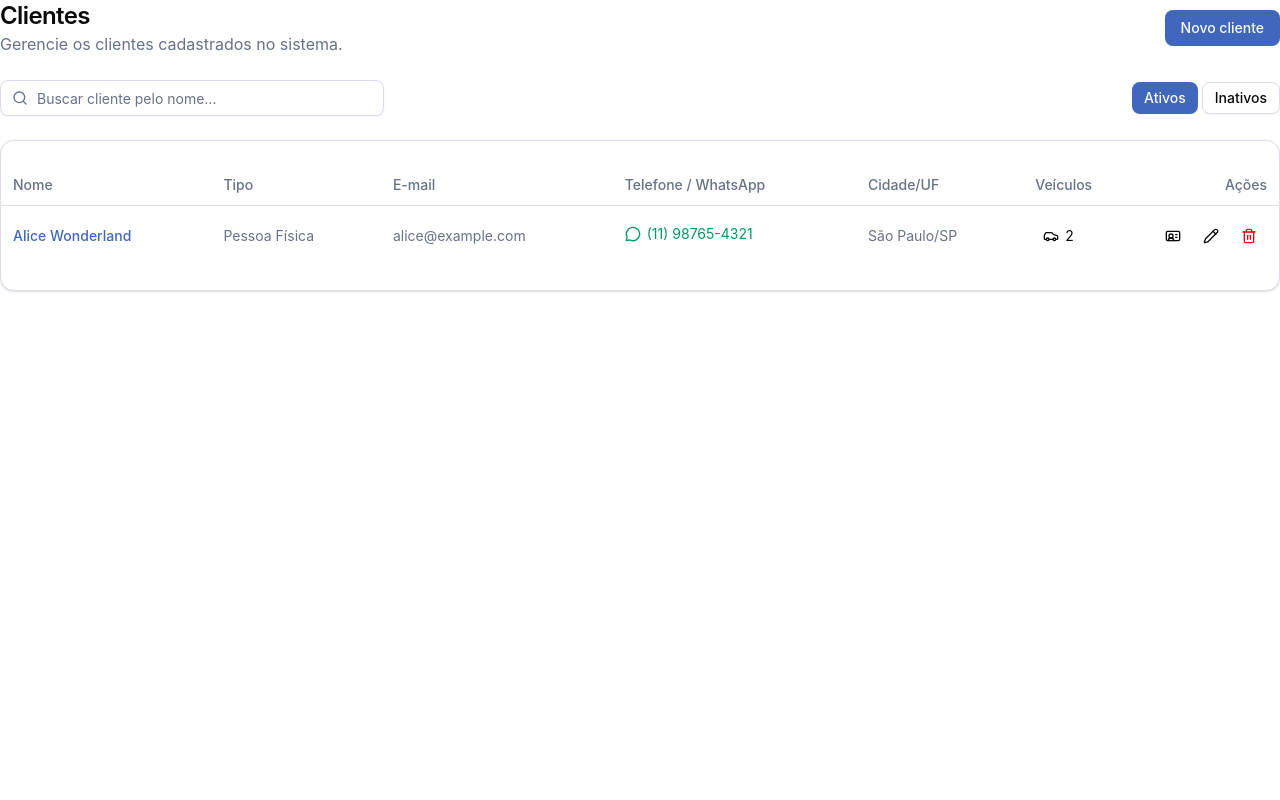
Test: CustomersPage › shows a picker dialog when the customer has more than one vehicle
Click the button named "2 veículo(s) vinculados": [1058, 236] box 1035,222 -> 1082,250
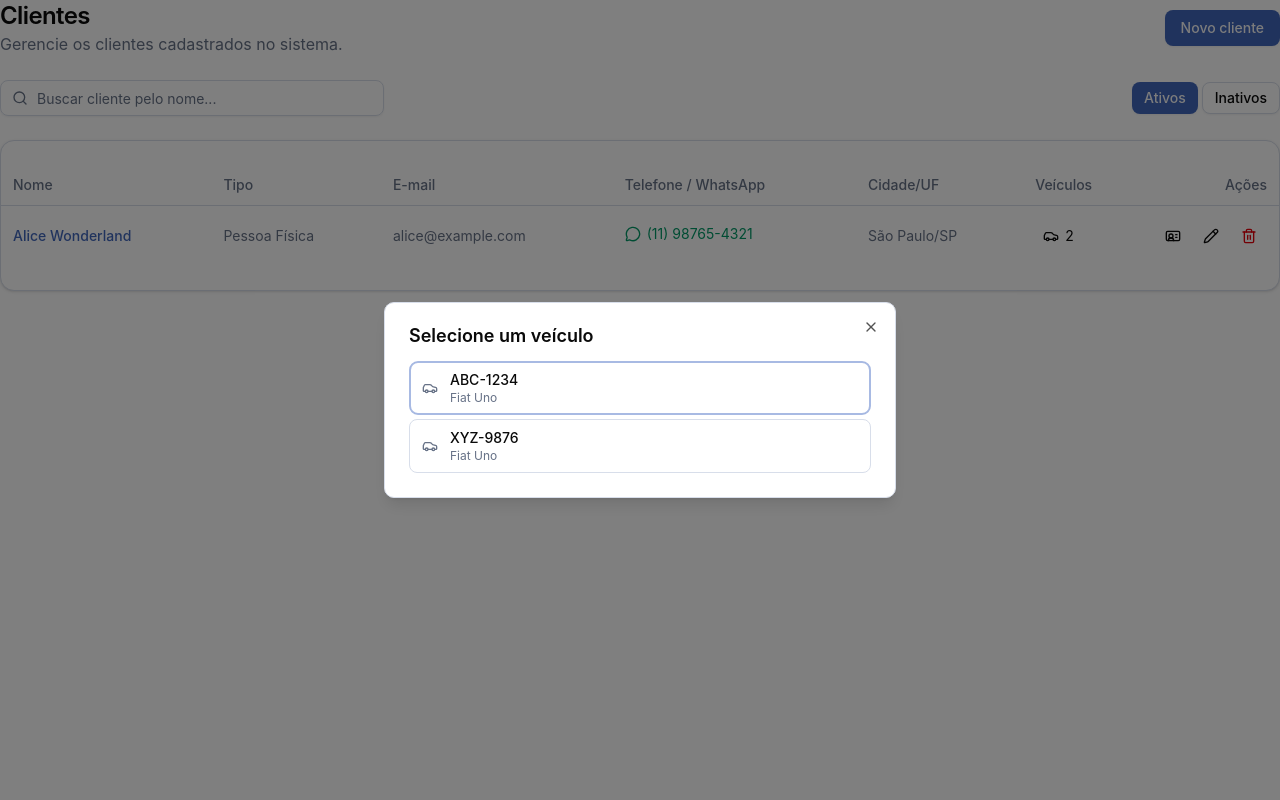
Check: the heading "Selecione um veículo" is shown, box 409,325 -> 594,346
Check: the text "ABC-1234" is shown, box 450,370 -> 518,390
Check: the text "XYZ-9876" is shown
Click the text "XYZ-9876": [484, 438] box 450,428 -> 519,448
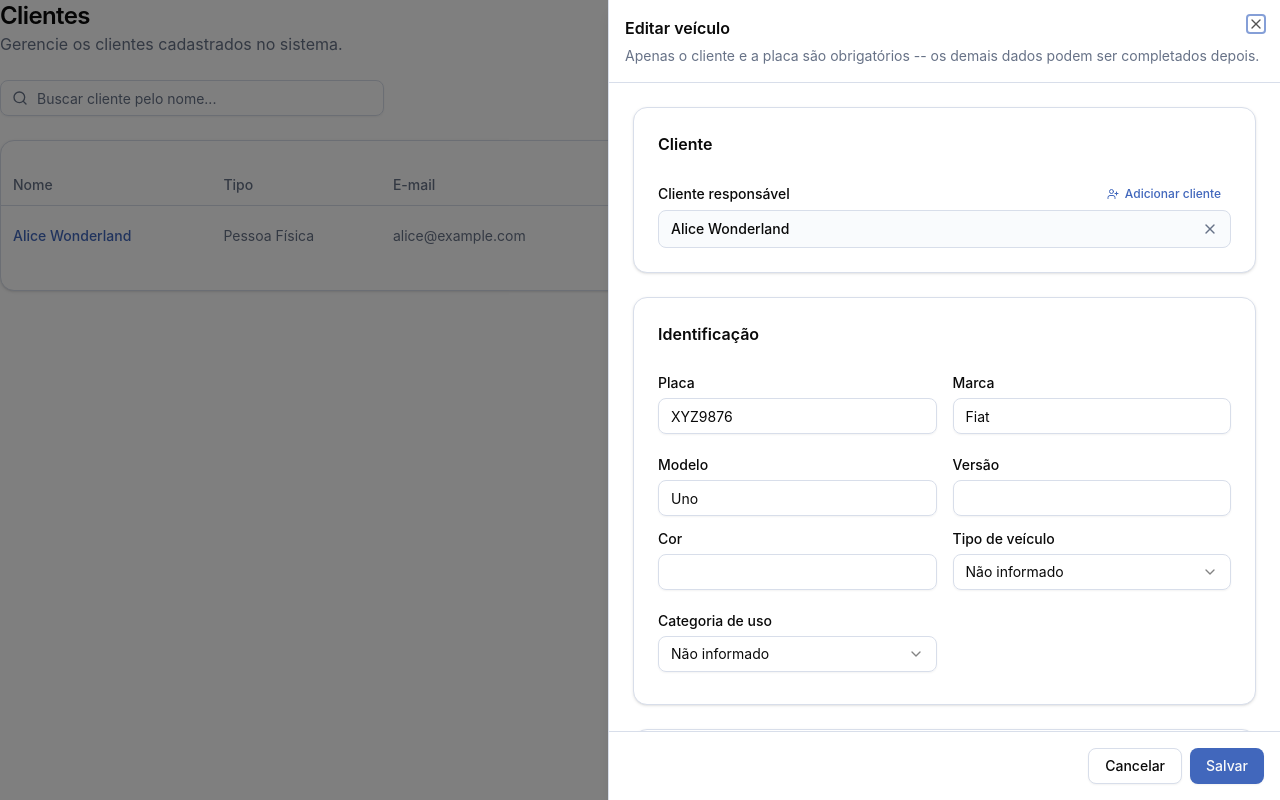
Check: the heading "Editar veículo" is shown, box 625,18 -> 730,38
Check: the field showing "XYZ9876" is shown, box 658,398 -> 936,434
